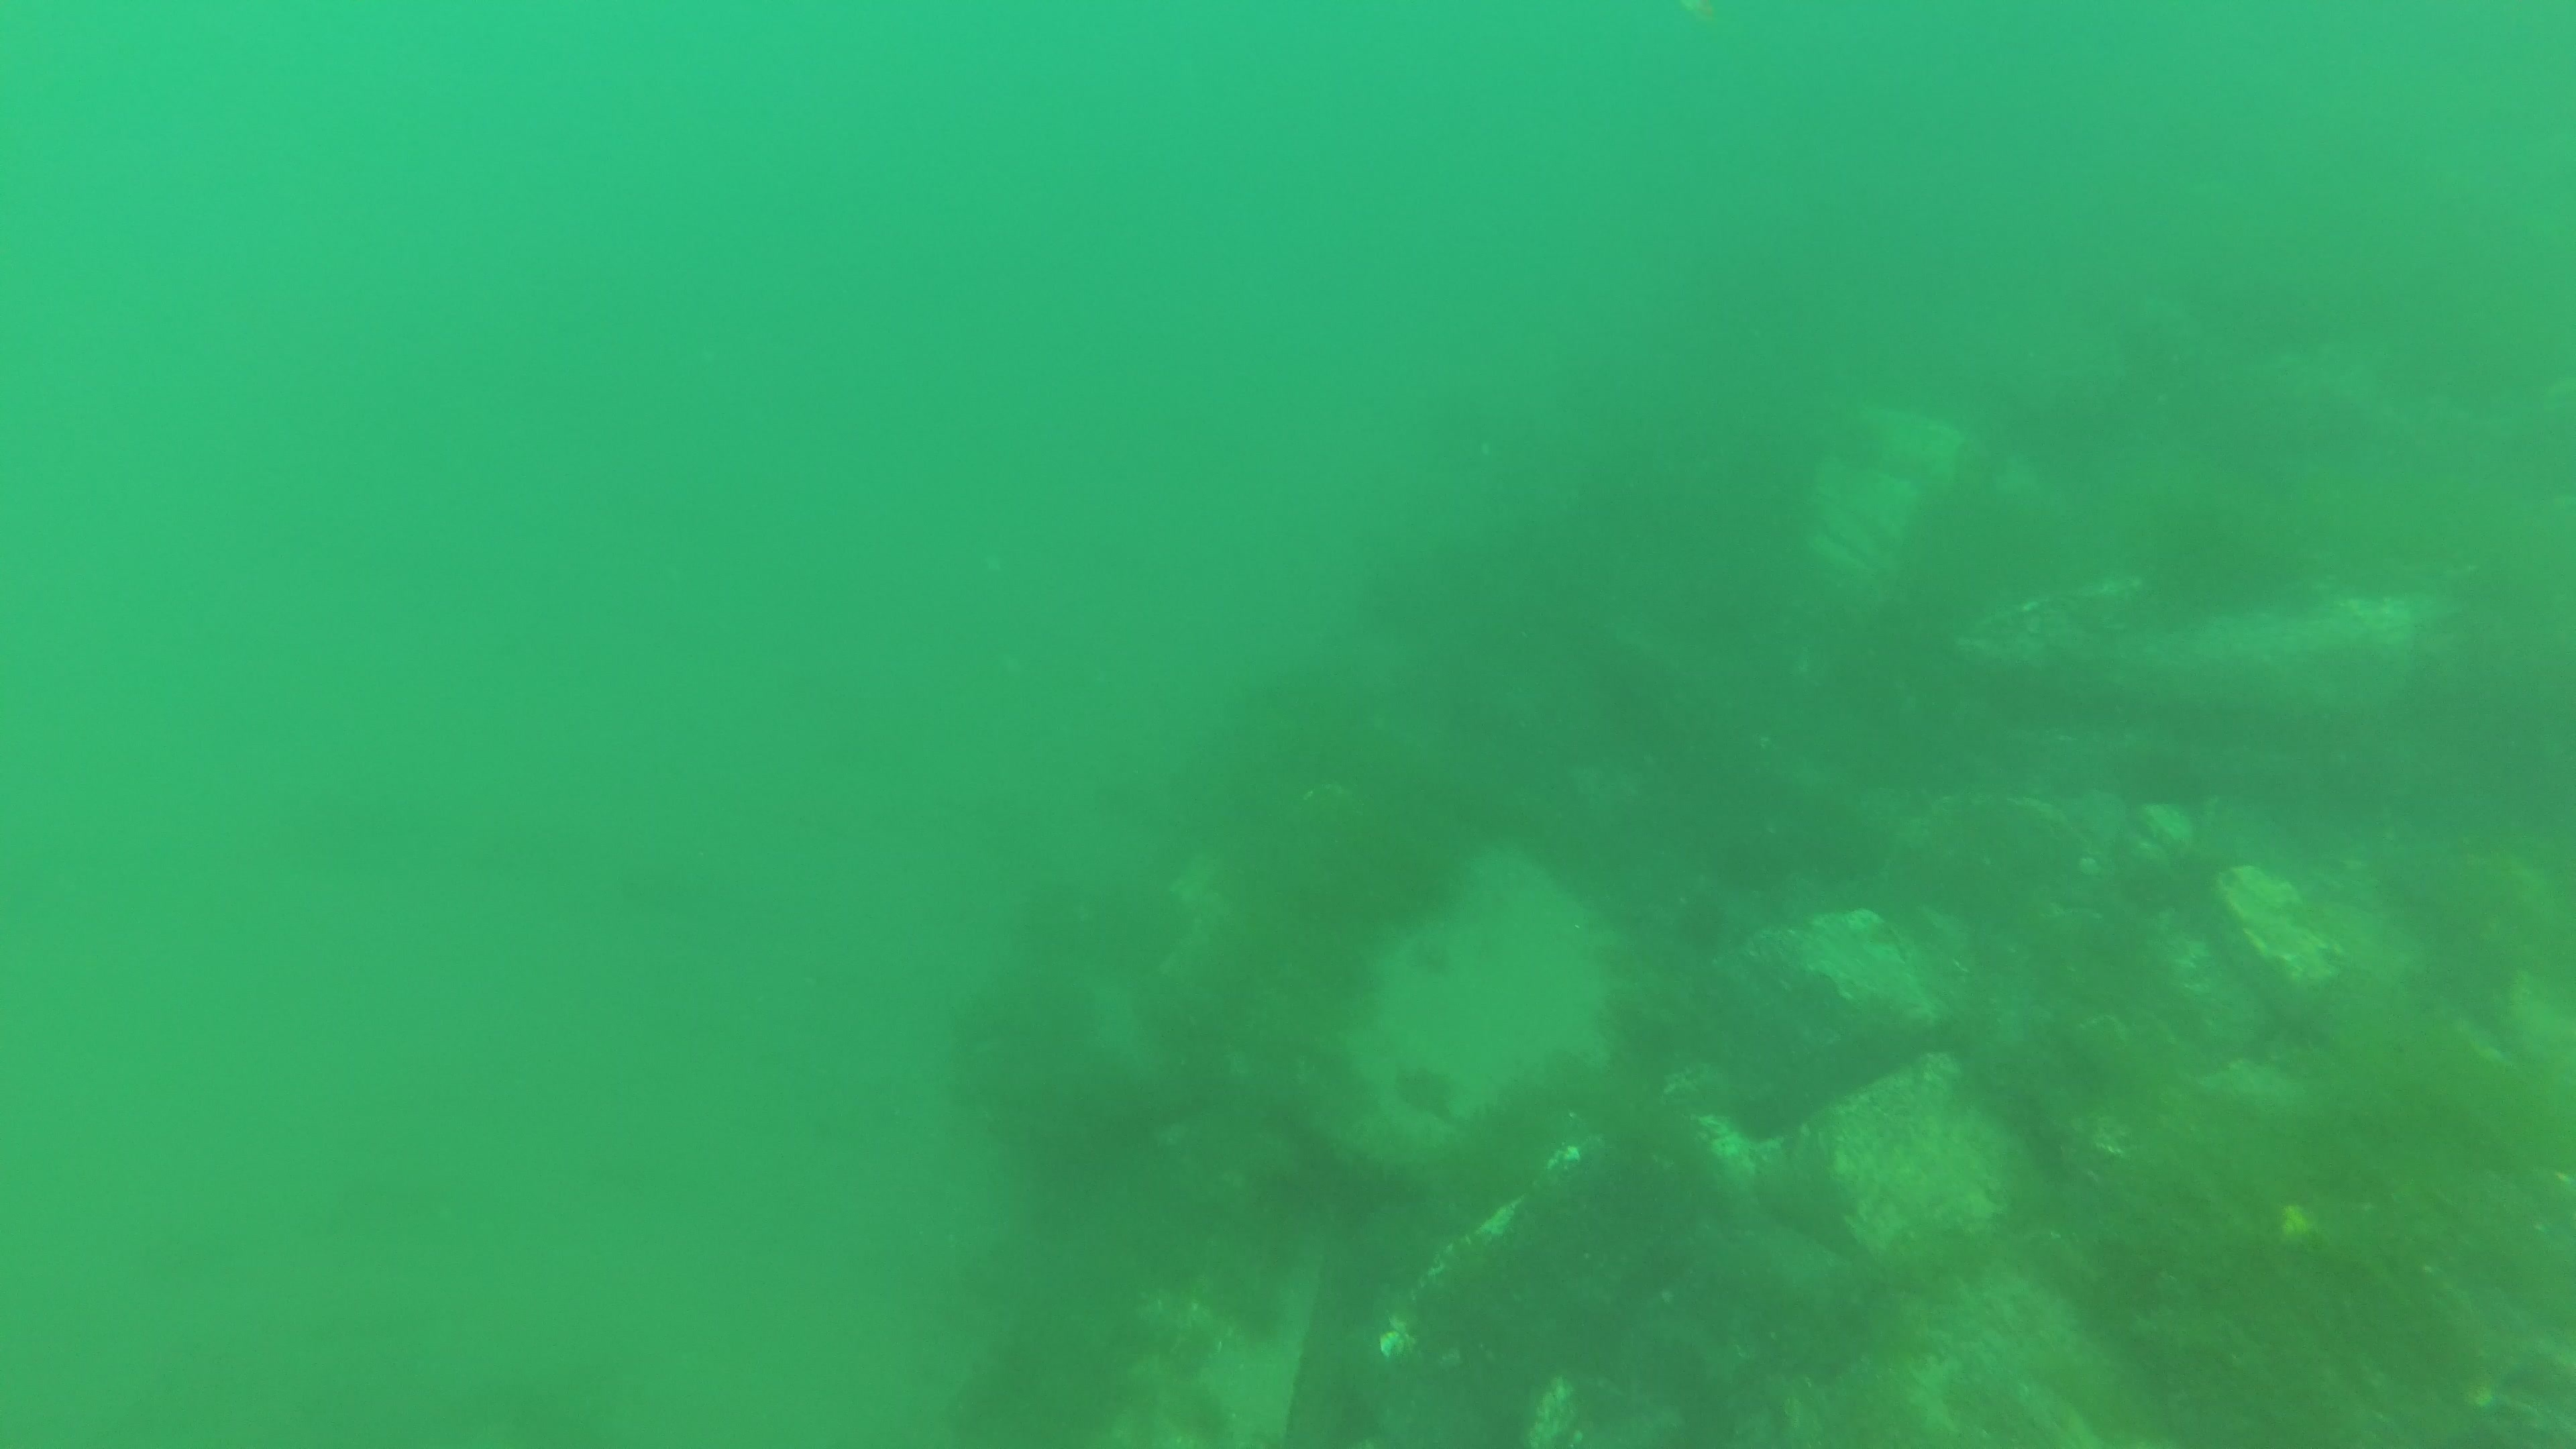echinus: (1714, 837, 1780, 885), (1679, 902, 1727, 948)
